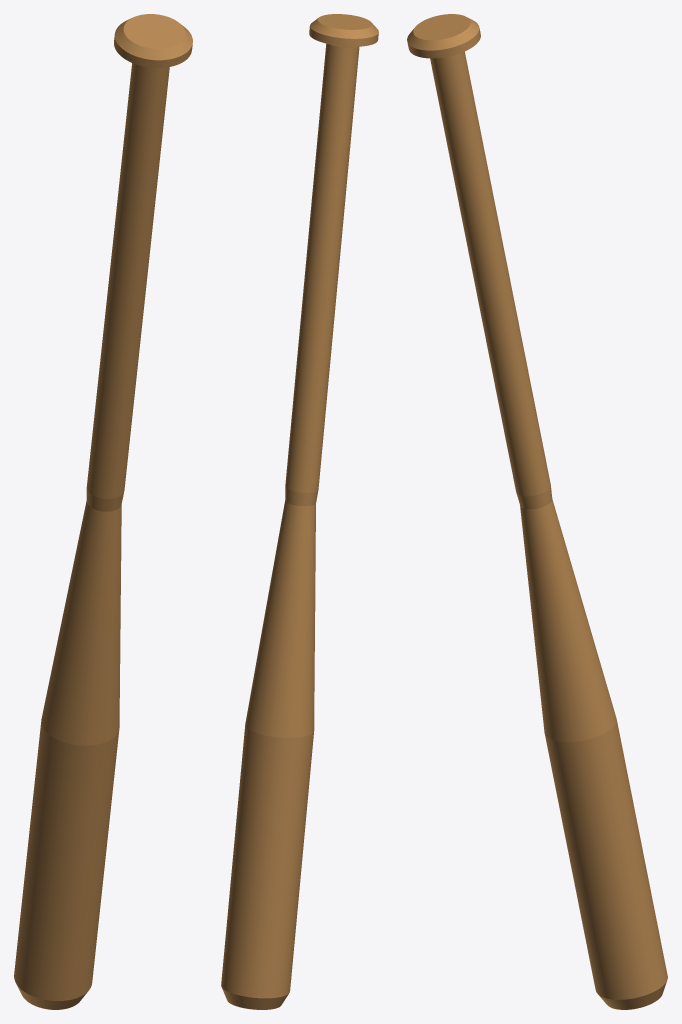
The picture shows the model from 3 angles, left to right: view 1: azimuth 30°, elevation 25°; view 2: azimuth 150°, elevation 25°; view 3: azimuth 270°, elevation 25°; orthographic projection. The views are drawn at different scales.
Visible parts, largest first — view 1: bat_wood; view 2: bat_wood; view 3: bat_wood.
Boxes of the visible parts, left/top/right/bottom form: bat_wood: left=14, top=14, right=192, bottom=1009; bat_wood: left=221, top=14, right=378, bottom=1009; bat_wood: left=407, top=14, right=667, bottom=1009.
Bounding box in the file's own units: 0.058 × 0.8526 × 0.2058.
